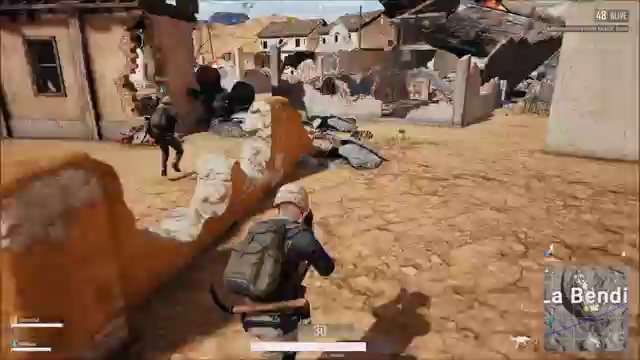Player: (223, 189, 347, 319), (129, 86, 202, 182)
